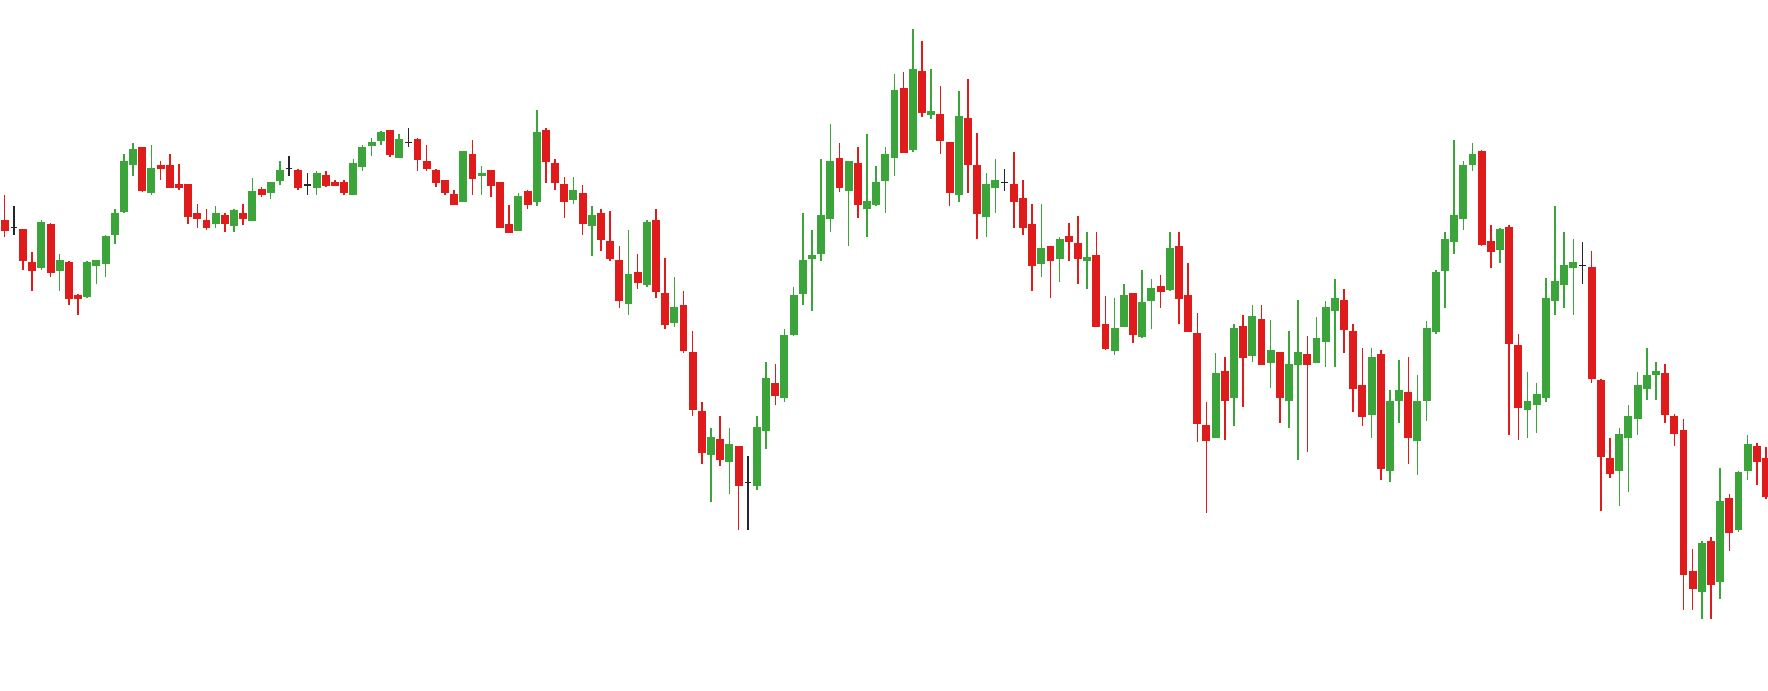buy: (1283, 355, 1394, 488)
sell: (1487, 207, 1559, 348), (458, 110, 551, 206)
